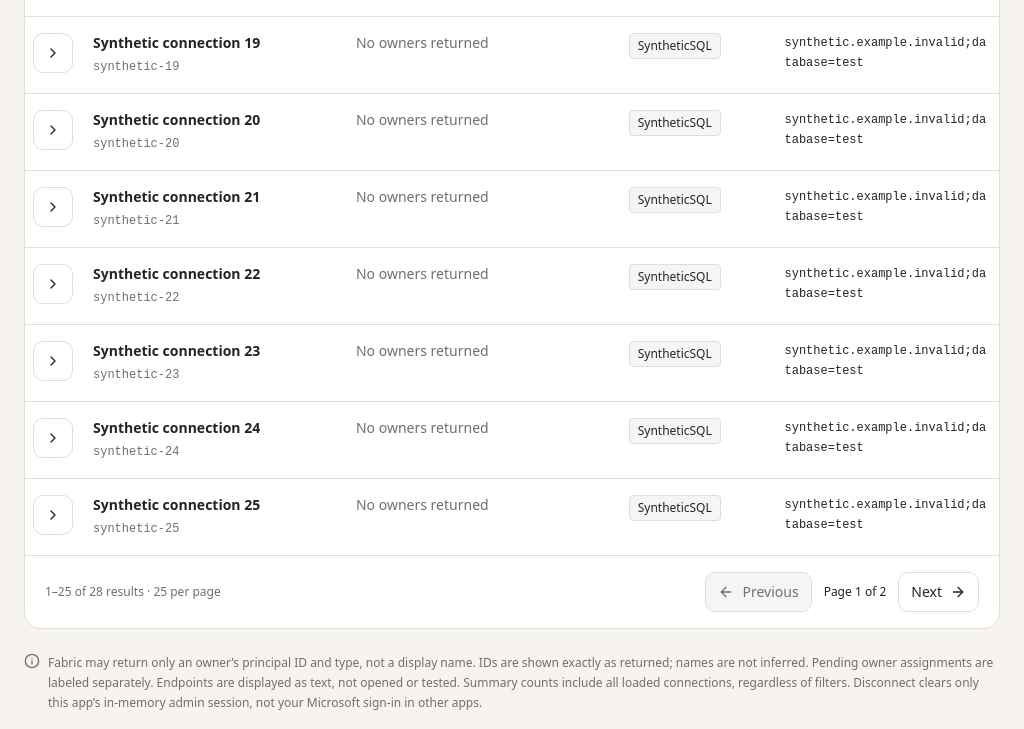
Test case: Connection inventory › paginates at 25, resets the page when filtering and sorts accessible column headers
This screenshot has width=1024, height=729.
(page scrolled)
Expected: the text "Synthetic connection 25" is shown, [93,495,260,514]
Expected: the text "Synthetic connection 26" is not shown
Step 1. Click the button with aria-label "Next page" → (939, 592), box [898,572,979,612]
(page scrolled)
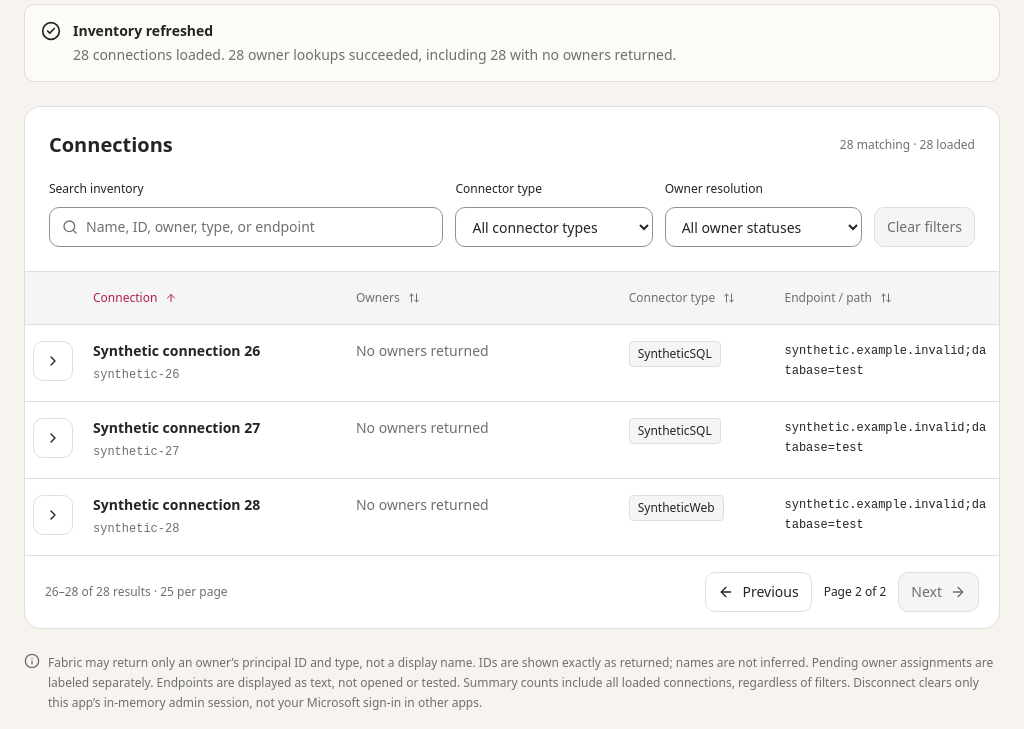
Expected: the number of rows is 4, [25,272,999,324]; [25,324,999,402]; [25,402,999,478]; [25,478,999,555]
Now the text "Synthetic connection 28" is shown, box [93,495,260,514]
Step 2. Select "SyntheticWeb" in the dropdown labelled "Connector type" → (554, 227), box [455,207,653,247]
(page scrolled)
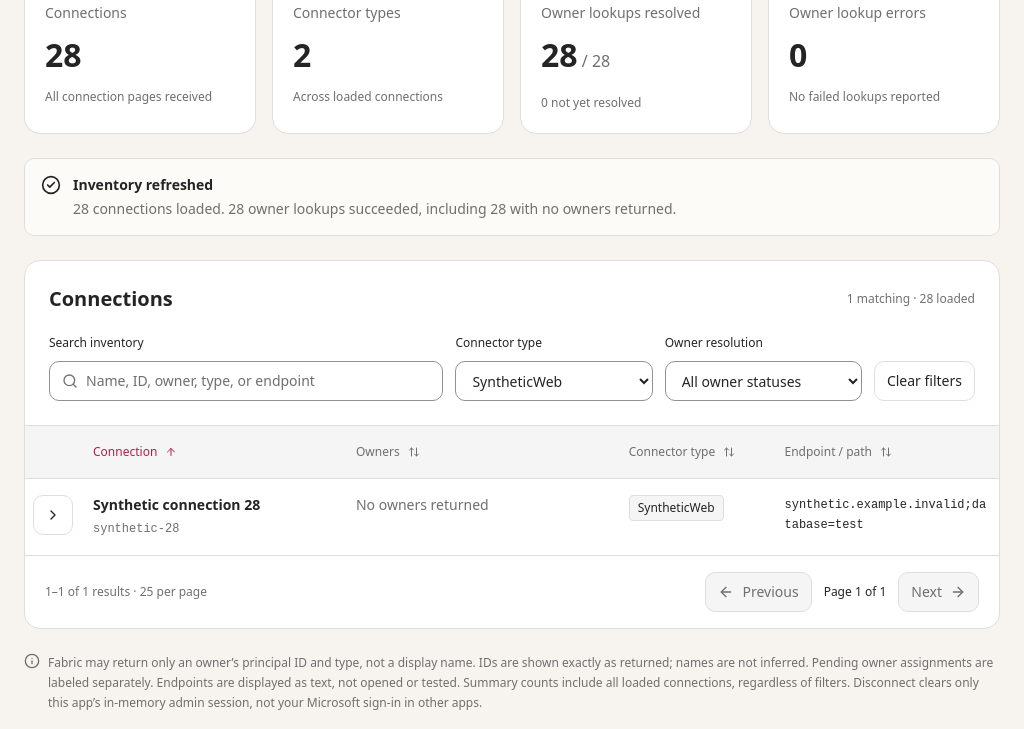
Now the text "Synthetic connection 28" is shown, box [93,495,260,514]
Now the text "Page 1 of 1" is shown, box [824,582,886,602]
Step 3. Click the button "Clear filters" → (924, 381), box [874,361,975,401]
(page scrolled)
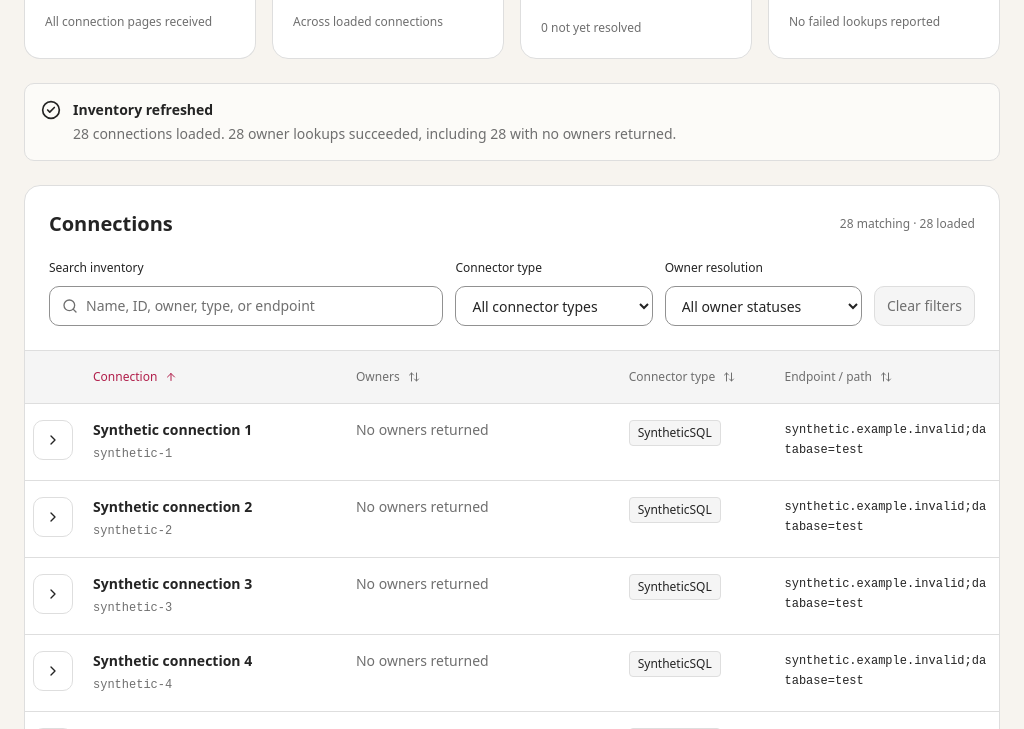
Step 4. Click the button "Connection" → (135, 377), box [93,359,177,395]
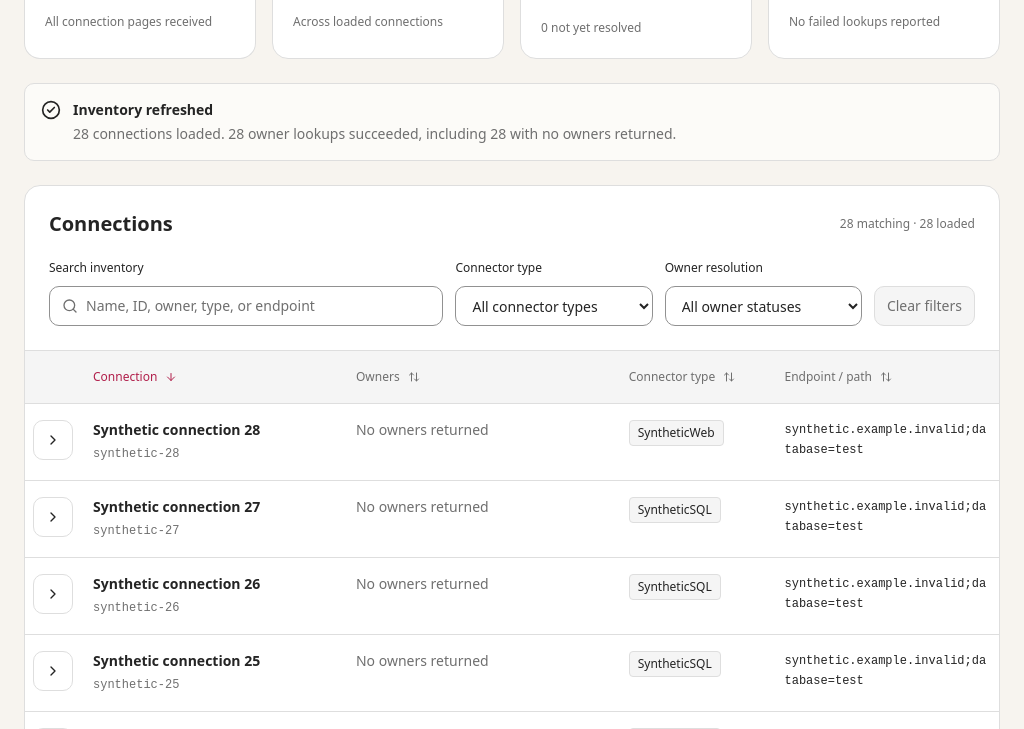
Now the row that starts with "Synthetic connection 28" is shown, box [93,420,260,439]
Step 5. Type "nothing matches" into the search field labelled "Search inventory" → (258, 306), box [86,287,430,325]
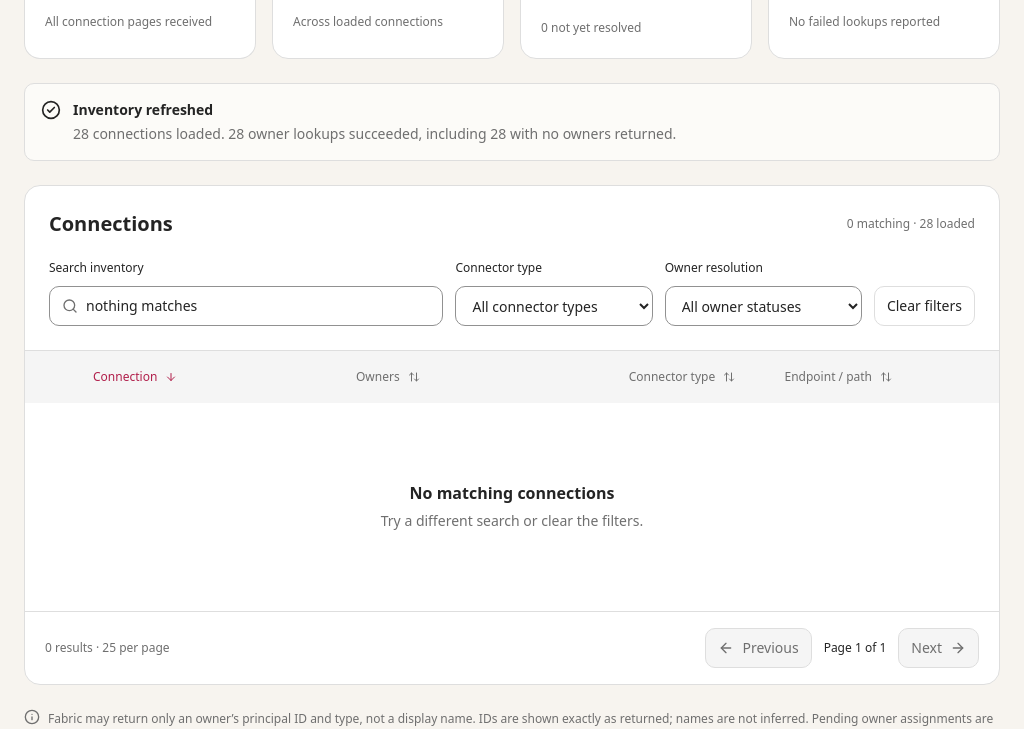
Now the text "No matching connections" is shown, box [410,482,614,504]
